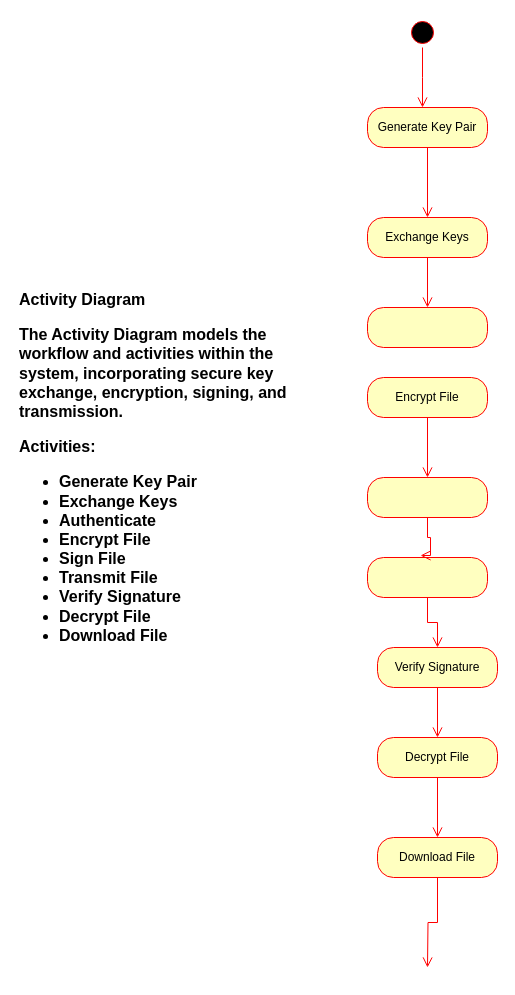
Some shapes in this 515 by 995 pixel diagram are drawn without their labels. The shapes that lost their labels are listed below. From the top down, each one's centre as x and y in pixels, then its label:
At [427,327]: "Authenticate".
At [427,497]: "Sign File".
At [427,577]: "Transmit File".
